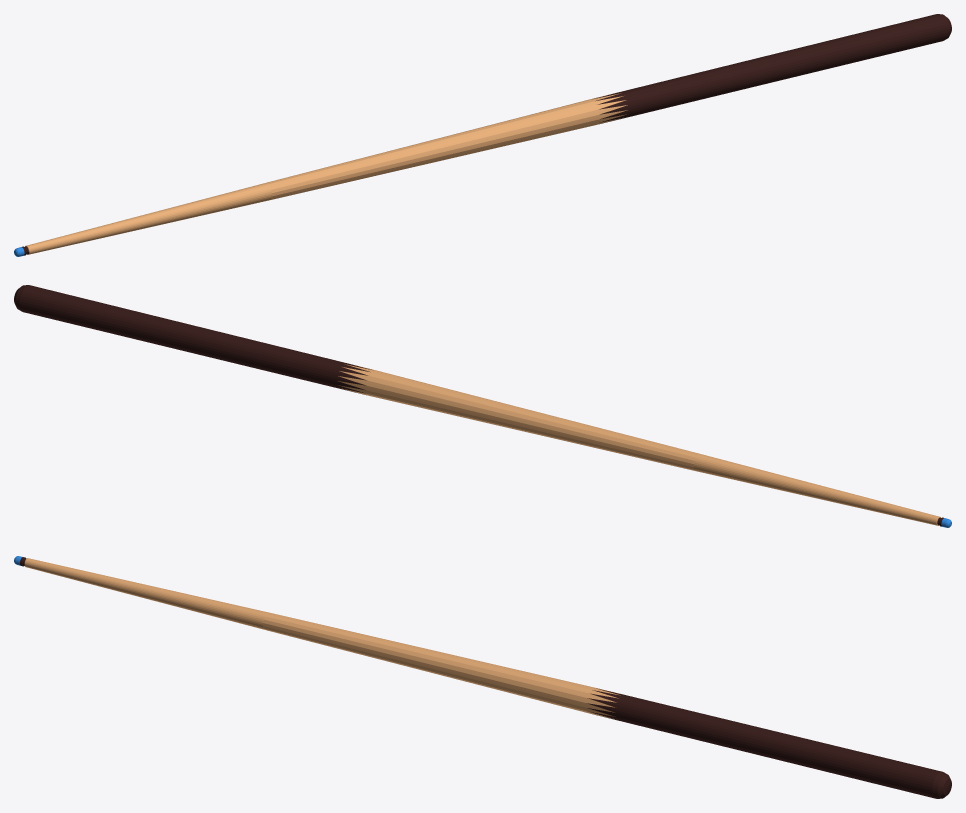
File: Billiard_cue_oig.glb
3 views of the same model, one above another, from view 1: azimuth 30°, elevation 25°; view 2: azimuth 150°, elevation 25°; view 3: azimuth 330°, elevation 25° (orthographic).
Visible parts, largest first — view 1: 球杆; view 2: 球杆; view 3: 球杆.
Part boxes in pixels (left/top/right/bottom): 球杆: left=14, top=14, right=951, bottom=256; 球杆: left=14, top=285, right=951, bottom=527; 球杆: left=14, top=556, right=951, bottom=798.
Bounding box in the file's own units: 2.01 × 0.052 × 0.052.
